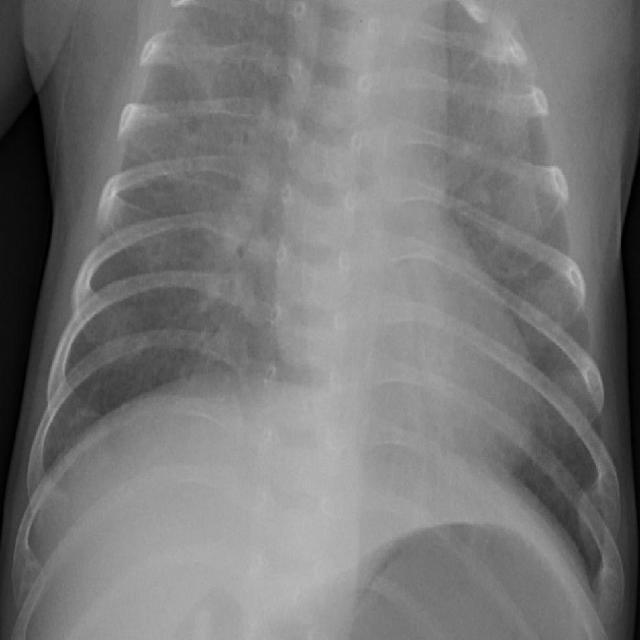viral_pneumonia: (1, 0, 640, 640)
